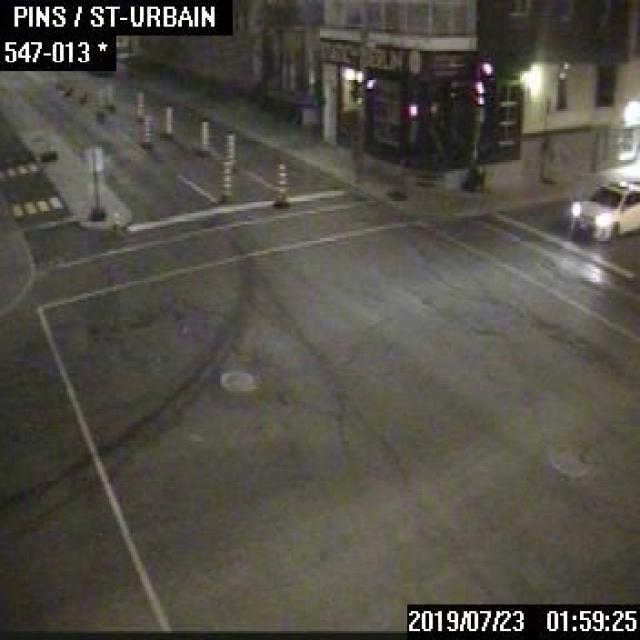construction: (216, 153, 232, 207), (273, 158, 289, 207), (222, 126, 238, 172), (158, 100, 173, 138), (195, 115, 207, 154), (141, 113, 151, 147), (93, 87, 104, 117), (104, 81, 115, 111), (134, 89, 144, 122)
vehicle: (568, 178, 638, 244)
